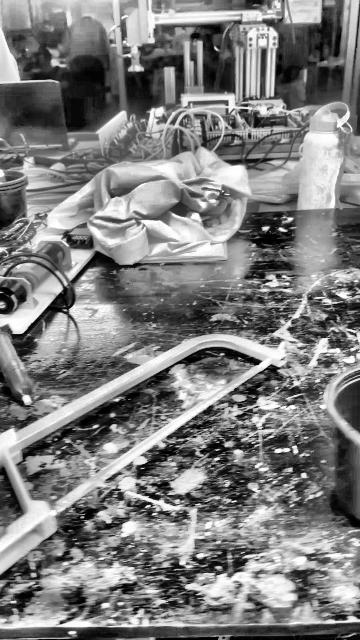pot: (325, 365, 359, 522), (0, 170, 27, 229)
